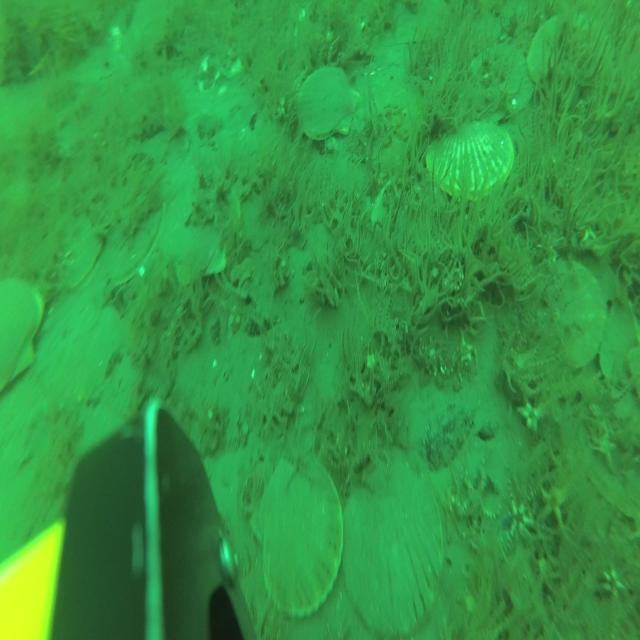scallop: (345, 457, 442, 632), (251, 450, 343, 618), (161, 172, 243, 283), (425, 117, 514, 200), (526, 10, 616, 89), (546, 258, 603, 367), (296, 60, 362, 140), (0, 275, 44, 390)
